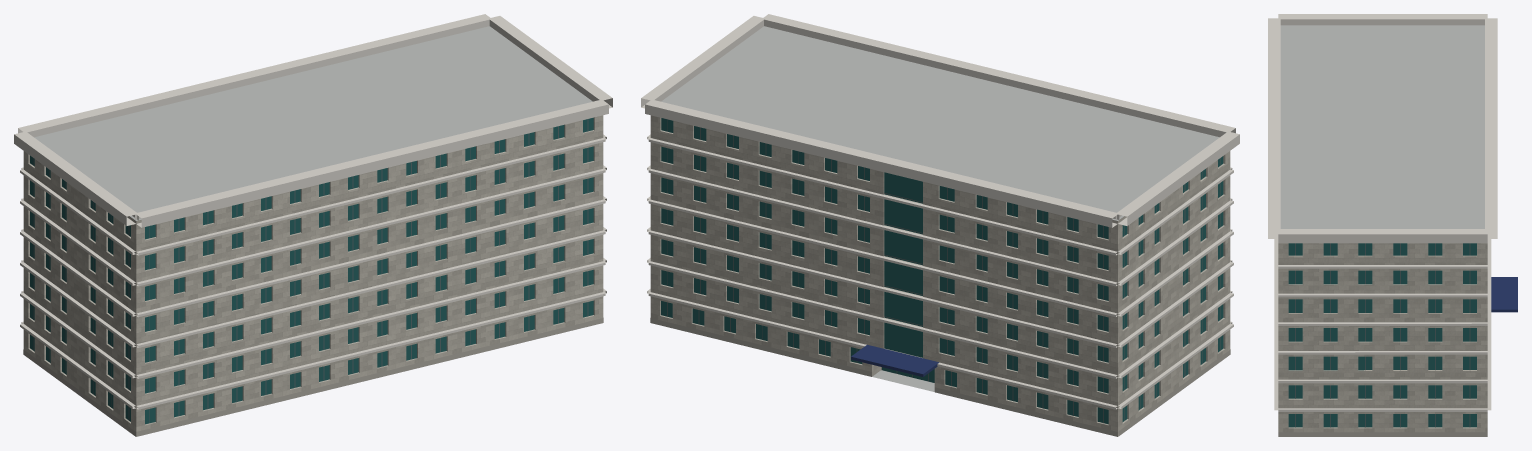
The picture shows the model from 3 angles, left to right: view 1: azimuth 30°, elevation 25°; view 2: azimuth 150°, elevation 25°; view 3: azimuth 270°, elevation 25°; orthographic projection. The views are drawn at different scales.
Visible parts, largest first — view 1: hospitalWest__wall, hospitalWest__roof, hospitalWest__trim, hospitalWest__glass, hospitalWest__base, hospitalWest__frame; view 2: hospitalWest__wall, hospitalWest__roof, hospitalWest__trim, hospitalWest__glass, hospitalWest__base, hospitalWest__frame, hospitalWest__canopy; view 3: hospitalWest__roof, hospitalWest__wall, hospitalWest__trim, hospitalWest__glass, hospitalWest__base, hospitalWest__canopy, hospitalWest__frame.
Part boxes in pixels (<box>): hospitalWest__wall: <box>23,115,603,436</box>; hospitalWest__roof: <box>34,26,592,220</box>; hospitalWest__trim: <box>14,14,612,409</box>; hospitalWest__glass: <box>30,117,593,424</box>; hospitalWest__base: <box>23,318,603,436</box>; hospitalWest__frame: <box>33,119,588,422</box>; hospitalWest__wall: <box>650,115,1230,436</box>; hospitalWest__roof: <box>661,26,1219,391</box>; hospitalWest__trim: <box>641,14,1239,409</box>; hospitalWest__glass: <box>661,118,1223,424</box>; hospitalWest__base: <box>650,318,1230,436</box>; hospitalWest__frame: <box>667,119,1220,423</box>; hospitalWest__canopy: <box>851,344,938,376</box>; hospitalWest__roof: <box>1280,25,1484,228</box>; hospitalWest__wall: <box>1278,243,1487,432</box>; hospitalWest__trim: <box>1268,14,1497,411</box>; hospitalWest__glass: <box>1288,243,1476,427</box>; hospitalWest__base: <box>1278,432,1487,436</box>; hospitalWest__canopy: <box>1491,277,1517,312</box>; hospitalWest__frame: <box>1295,243,1470,427</box>.
Bounding box in the file's own units: 61.89 × 27.05 × 29.64.
8 materials, 1 textured.
